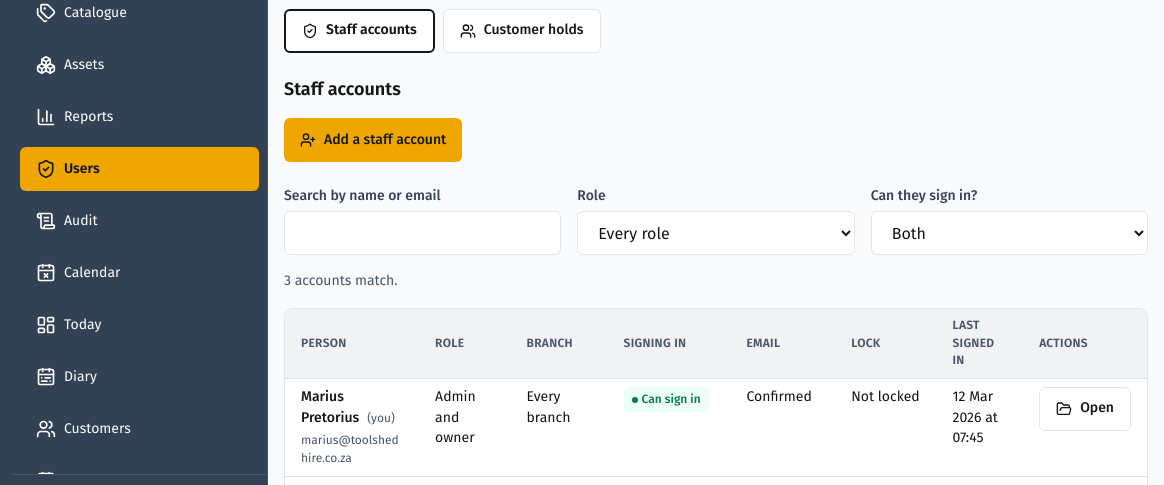
the form that opens a staff account › asks for exactly the fields of the route and never for a password
The image size is (1164, 485).
What coordinates should you click on to do the following:
click the button "Add a staff account"
I would click on:
 (373, 140)
Its box is [284, 118, 462, 162].
(page scrolled)
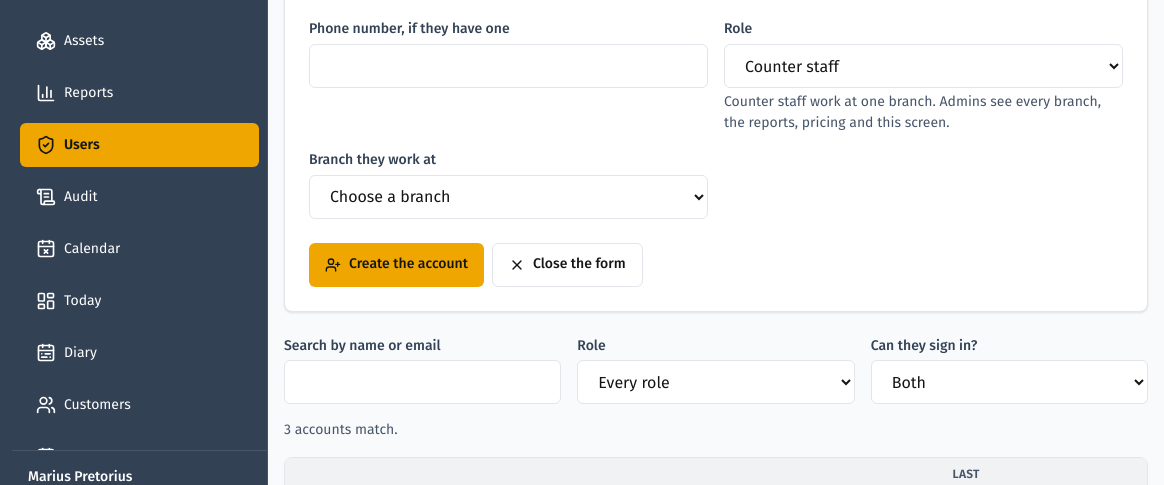
Expected: the dropdown labelled "Role" below "Phone number, if they have one" shows "Counter staff", [724, 44, 1123, 88]
Expected: the dropdown labelled "Branch they work at" is shown, [309, 174, 708, 218]
